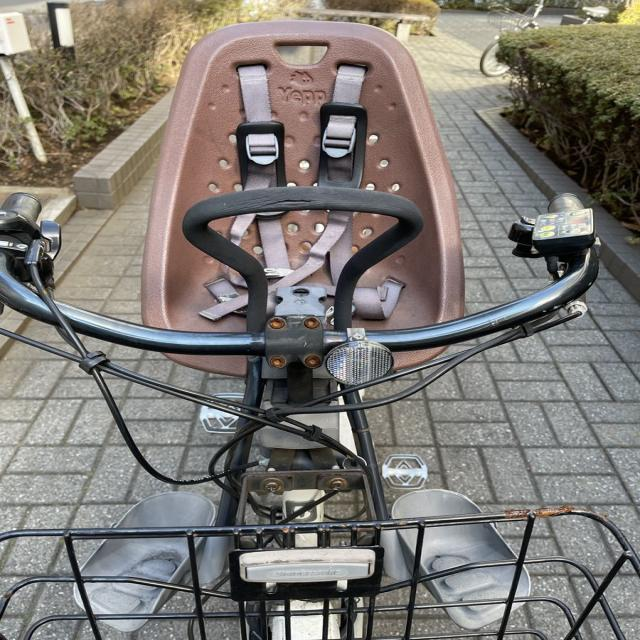childseat: (145, 19, 452, 403)
